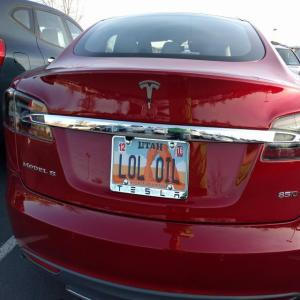Plate: (111, 137, 189, 198)
